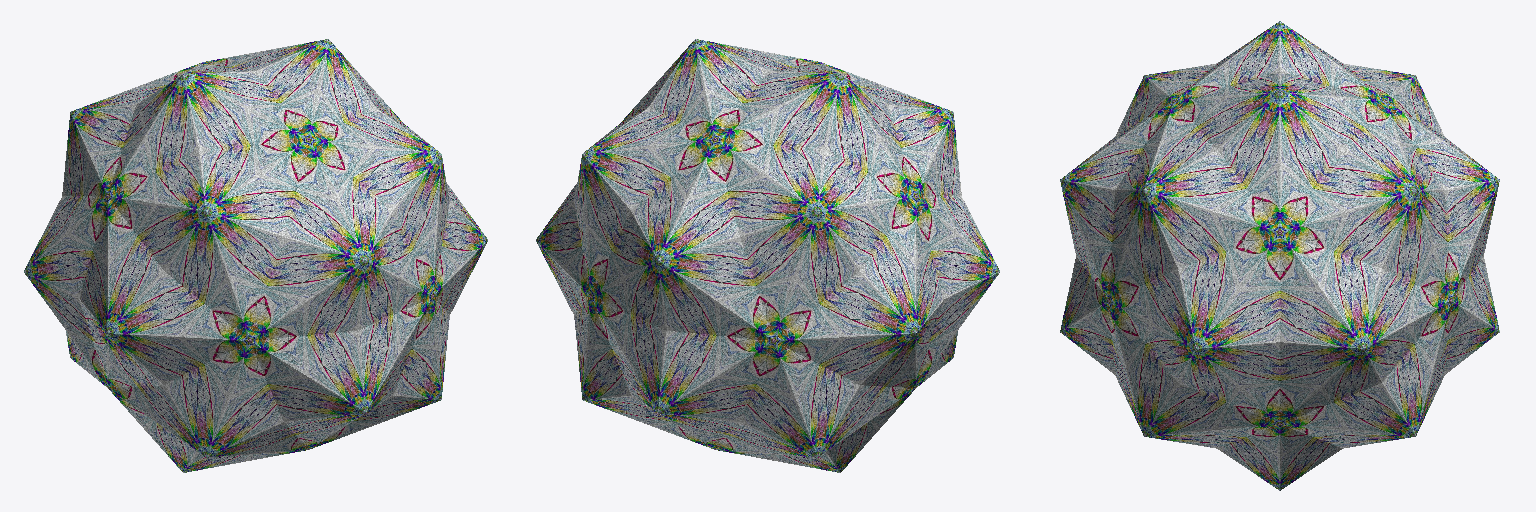
The picture shows the model from 3 angles: view 1: azimuth 30°, elevation 25°; view 2: azimuth 150°, elevation 25°; view 3: azimuth 270°, elevation 25°; orthographic projection.
Bounding box in the file's own units: 3.62 × 3.62 × 3.62.
1 materials, 1 textured.